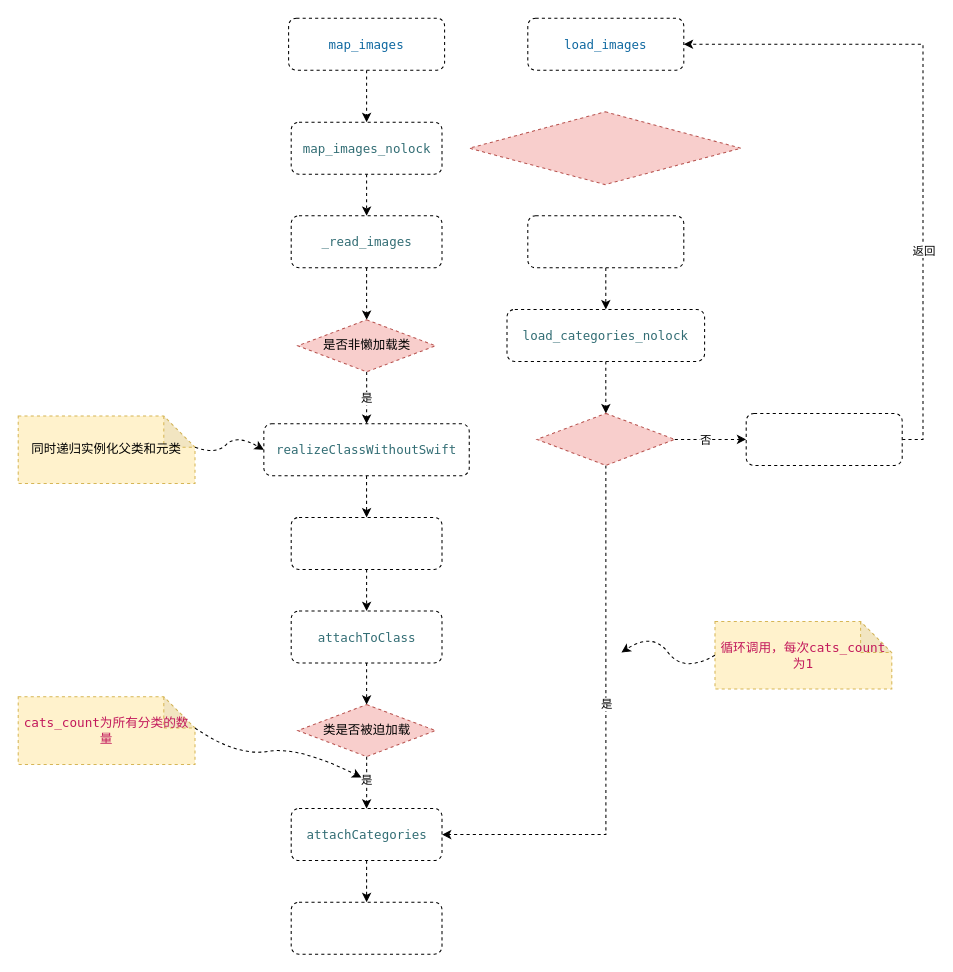
Some shapes in this 953 by 972 pixel diagram are drawn without their labels. Each missing label, with the box of its shape:
addForClass: (745, 412, 902, 465)
attachLists: (290, 901, 442, 954)
didInitialAttachCategories: (468, 111, 741, 185)
loadAllCategories: (527, 215, 684, 268)
methodizeClass: (290, 516, 442, 569)
类是否实例化: (536, 412, 675, 465)
